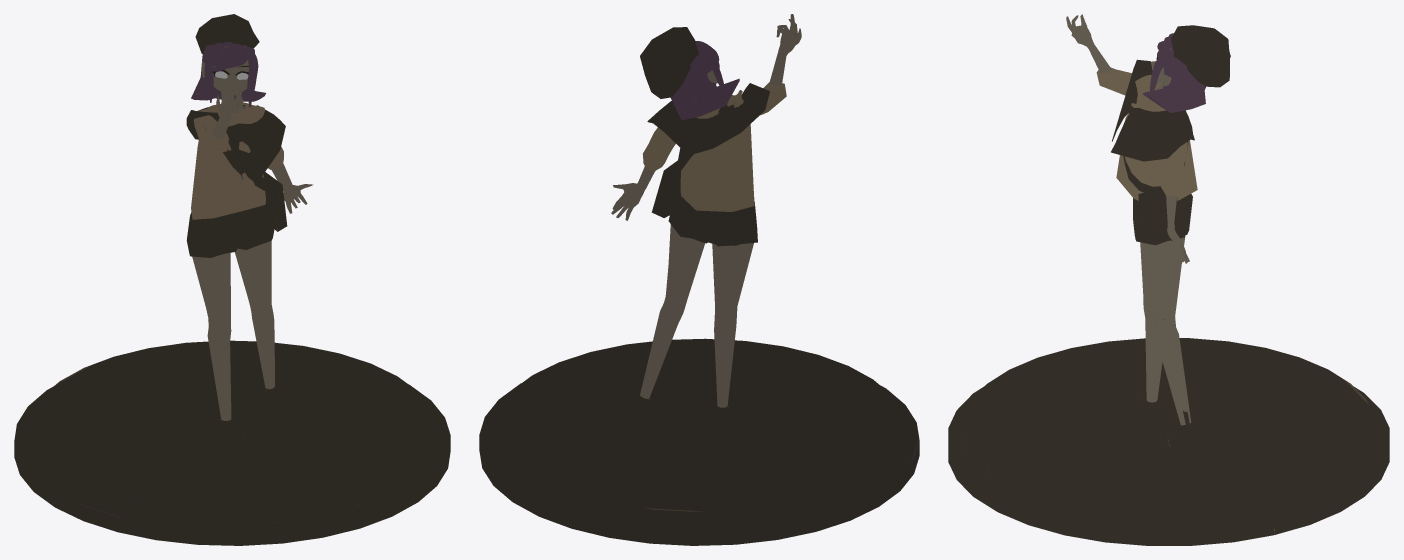
File: LindaReach.glb
3 renders of one model, left to right at view 1: azimuth 30°, elevation 25°; view 2: azimuth 150°, elevation 25°; view 3: azimuth 270°, elevation 25°, orthographic.
Visible parts, largest first — view 1: NurbsPath.001; view 2: NurbsPath.001; view 3: NurbsPath.001.
Boxes of the visible parts, left/top/right/bottom form: NurbsPath.001: left=14, top=14, right=450, bottom=545; NurbsPath.001: left=479, top=14, right=919, bottom=545; NurbsPath.001: left=948, top=14, right=1389, bottom=545.
Bounding box in the file's own units: 11.87 × 12.87 × 11.87.
Materials: 1 (1 with a texture image).
